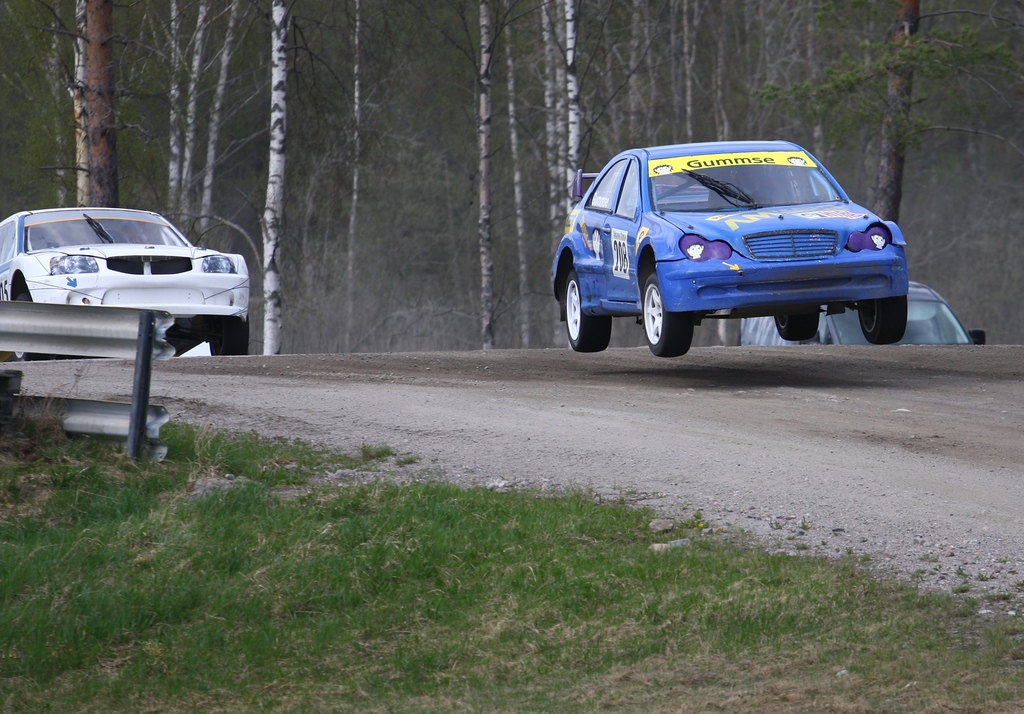Car: (554, 131, 898, 357), (0, 200, 251, 355), (738, 282, 986, 349)
